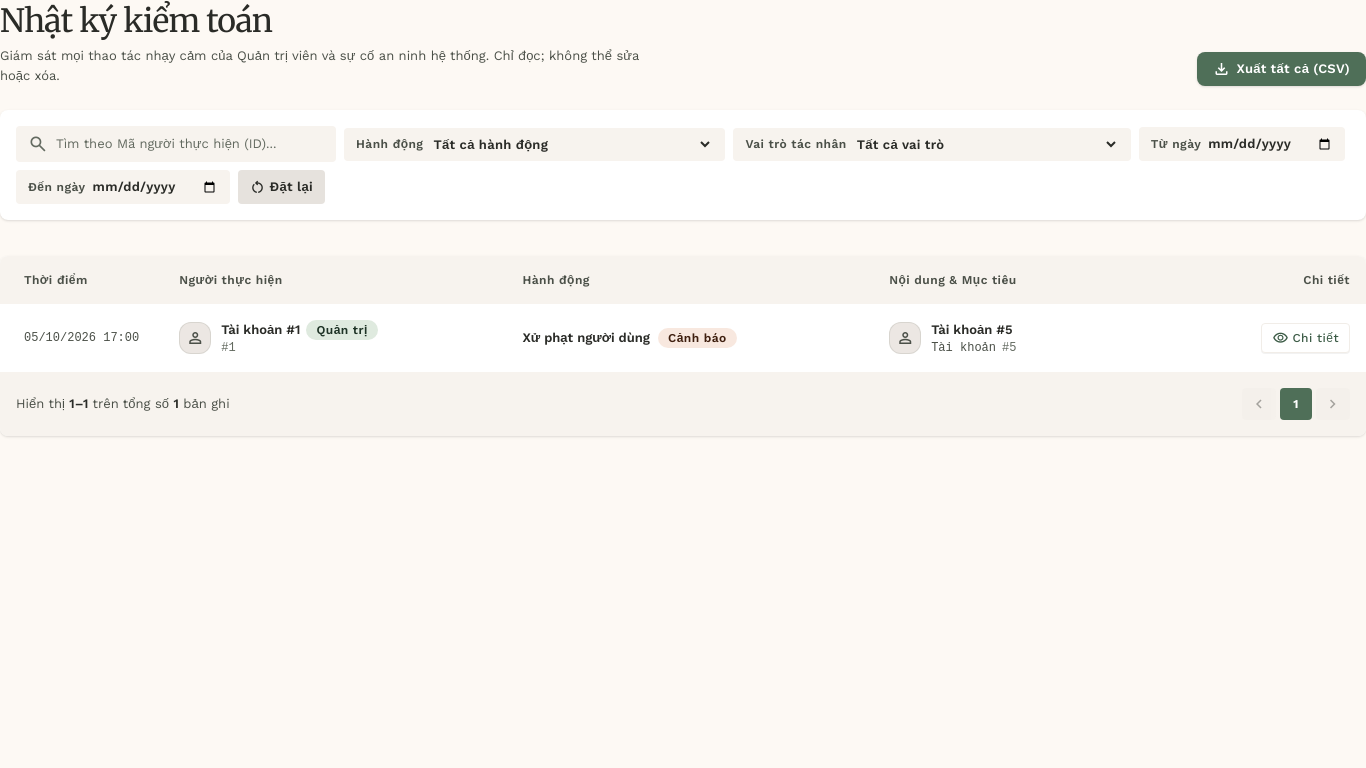
Nhật ký kiểm toán (SCR-40) › bấm nút Chi tiết mở modal xem thông tin thay đổi dữ liệu
Click the button "Chi tiết".
click(1306, 338)  # box [1261, 323, 1350, 353]
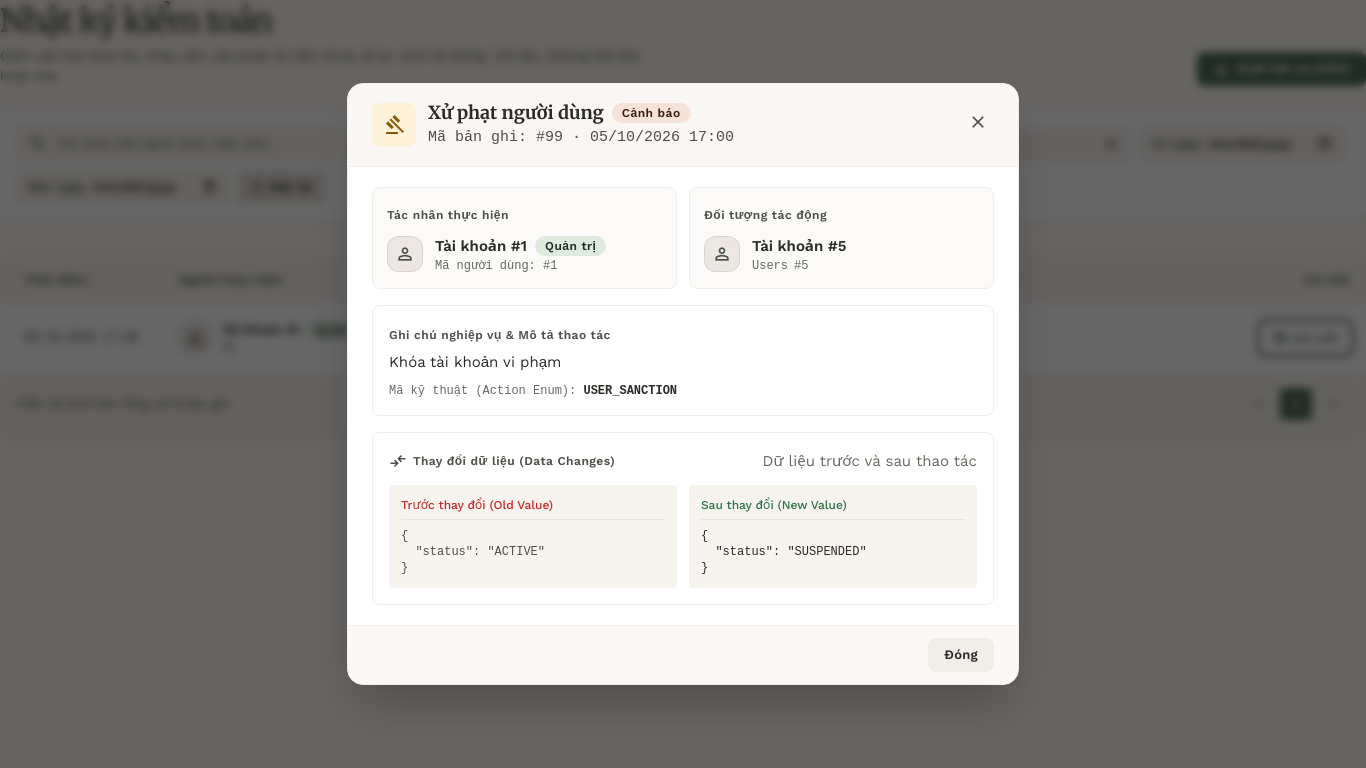
Result: the dialog is shown
Result: the text "Thay đổi dữ liệu (Data Changes)" is shown at [389, 452, 615, 470]
Result: the text "Trước thay đổi (Old Value)" is shown at [401, 497, 553, 513]
Click the button named "Đóng hộp thoại".
click(978, 125)  # box [962, 106, 994, 145]
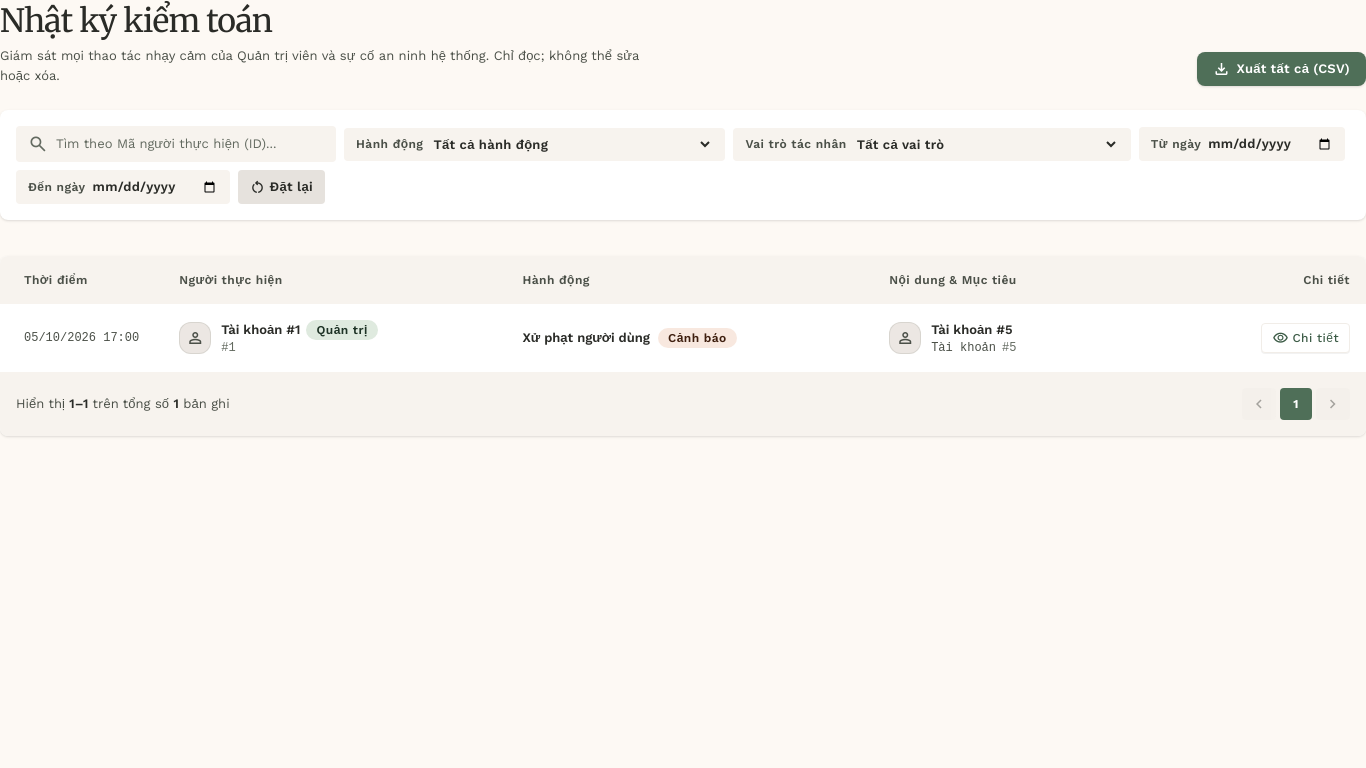
Result: the dialog is gone
